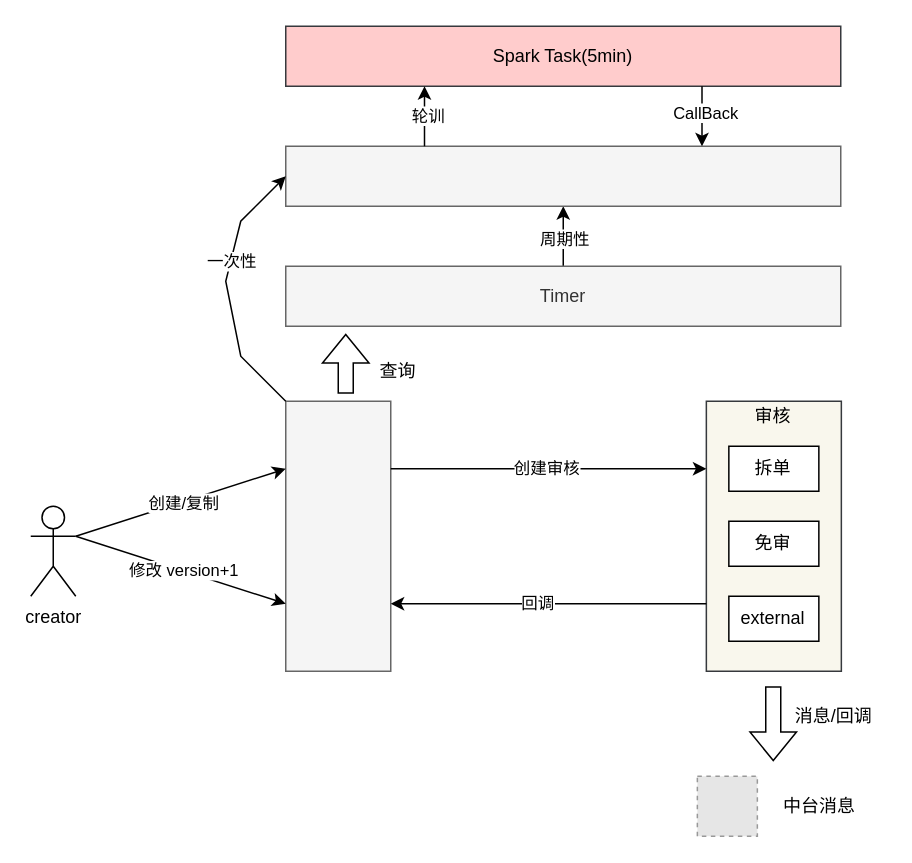
Some shapes in this 912 by 863 pixel diagram are drawn without their labels. Grey dashed boxes stand in for pictures. The shapes that lost their labels are listed below. From the top down, each one's centre as x and y in pixels, then its label:
point (562, 175): Extract Task
point (337, 535): 提取列表
